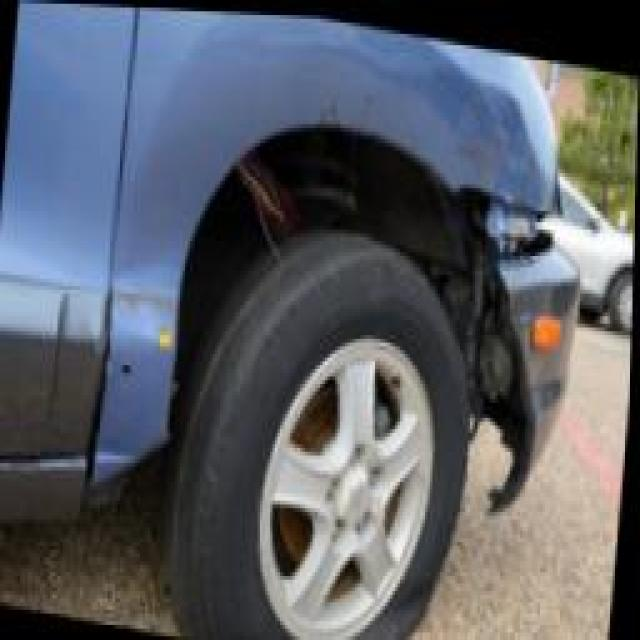Bumper: (478, 233, 591, 502)
